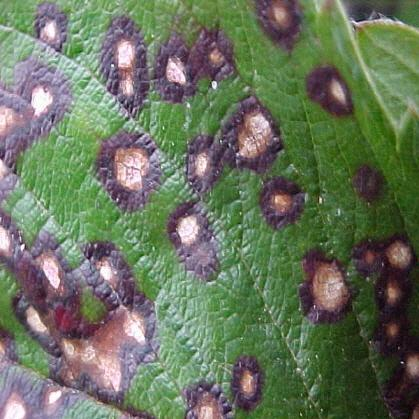Leaf Spot: (0, 0, 418, 418)
